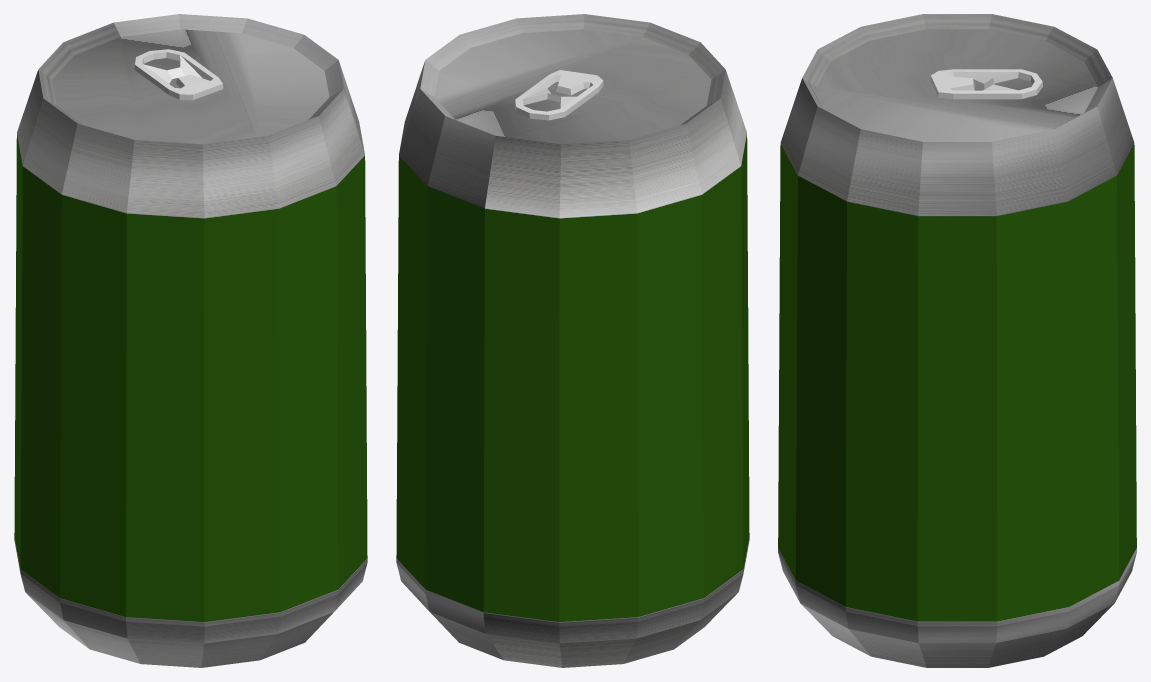
Rendered from can.fbx.
3 renders of one model, left to right at view 1: azimuth 30°, elevation 25°; view 2: azimuth 150°, elevation 25°; view 3: azimuth 270°, elevation 25°, orthographic.
Parts seen in each view (by area): view 1: can_body, can; view 2: can_body, can; view 3: can_body, can.
Boxes of the visible parts, x1,y1,x2,y2 form: can_body: (14,14,367,667); can: (134,49,223,100); can_body: (396,14,749,667); can: (515,70,603,120); can_body: (778,14,1136,667); can: (930,69,1042,99).
Bounding box in the file's own units: 0.8759 × 1.47 × 0.8992.
2 materials, 1 textured.
